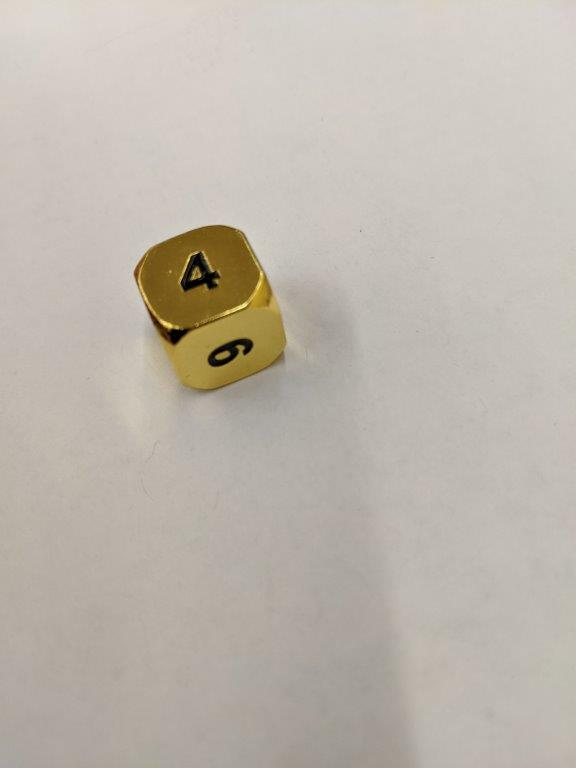d6-4: (131, 224, 288, 395)
